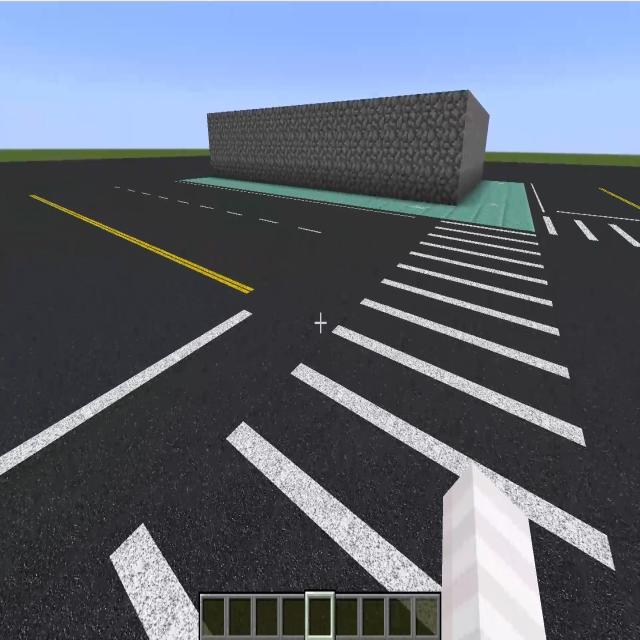crosswalk: (0, 220, 628, 639), (534, 215, 640, 245)
road: (0, 157, 437, 637), (540, 234, 640, 639), (484, 162, 640, 220)
sidewalk: (184, 177, 535, 230)
